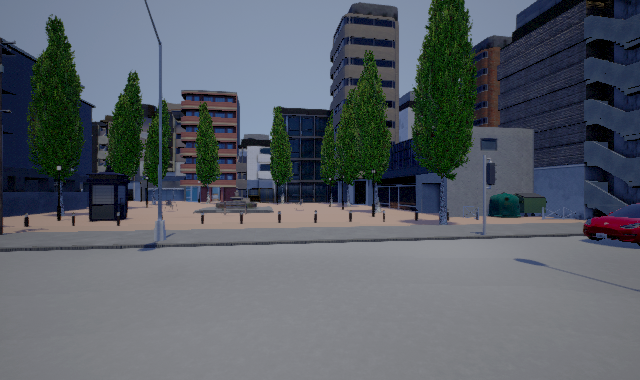vehicle: (583, 203, 640, 246)
